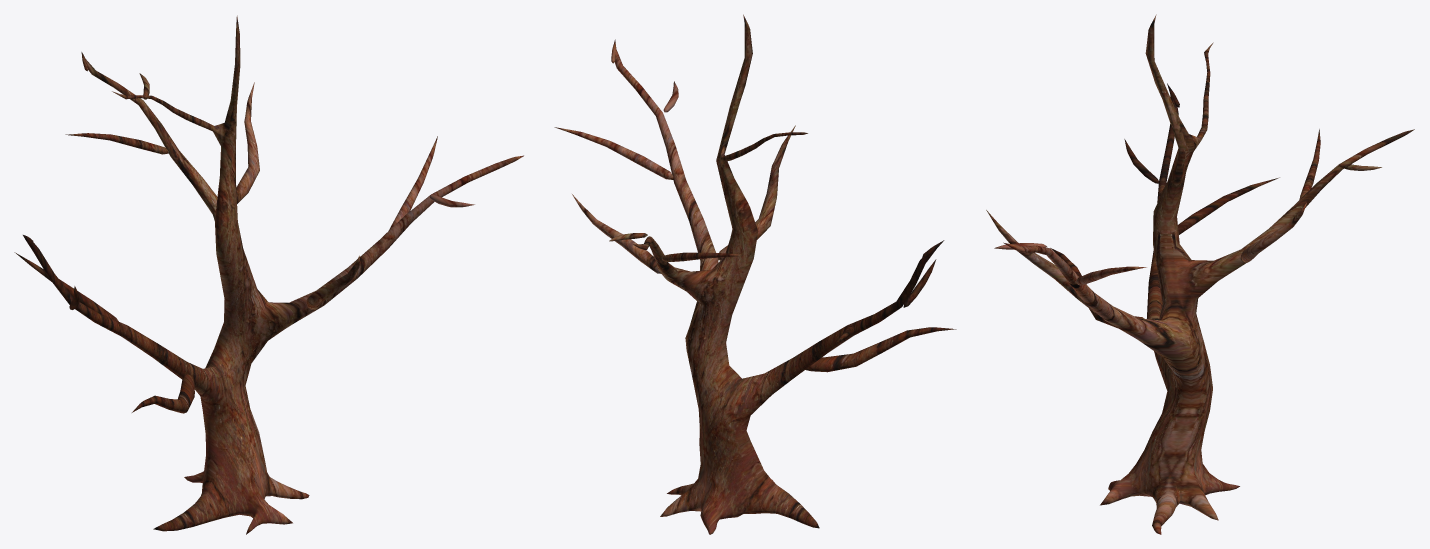
The model's file is trunk4.fbx.
The picture shows the model from 3 angles, left to right: view 1: azimuth 30°, elevation 25°; view 2: azimuth 150°, elevation 25°; view 3: azimuth 270°, elevation 25°; orthographic projection. The views are drawn at different scales.
Parts seen in each view (by area): view 1: Line01; view 2: Line01; view 3: Line01.
Part boxes in pixels (<box>): Line01: <box>14,15,523,534</box>; Line01: <box>554,14,956,534</box>; Line01: <box>986,14,1414,534</box>.
Size of the model in its own units: 30.57 by 35.07 by 28.14.
